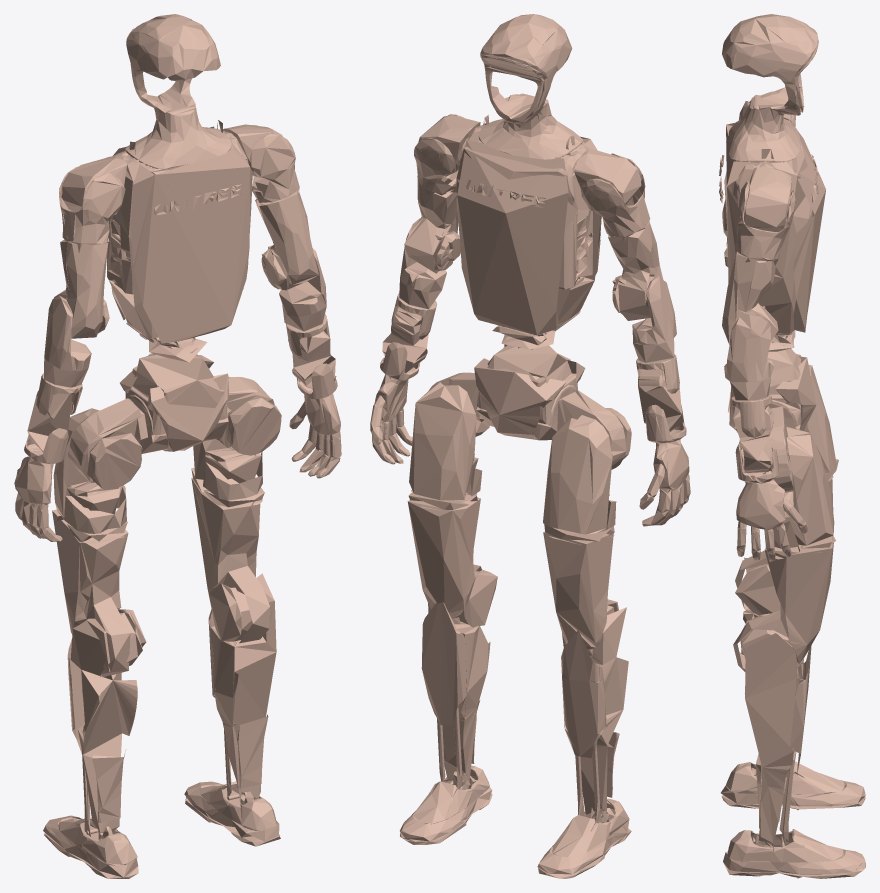
Rendered from jules.glb.
The picture shows the model from 3 angles, left to right: view 1: azimuth 30°, elevation 25°; view 2: azimuth 150°, elevation 25°; view 3: azimuth 270°, elevation 25°; orthographic projection. The views are drawn at different scales.
Visible parts, largest first — view 1: body16_16, body16_18, body5_5, body10_10, body11_11, body4_4, body2_2, body1_0, body3_3, body26_29, body19_21, body13_13 (+19 smaller); view 2: body16_16, body16_18, body5_5, body11_11, body10_10, body3_3, body9_9, body4_4, body1_1, body13_13, body7_7, body26_29 (+19 smaller); view 3: body16_18, body11_11, body16_16, body10_10, body13_13, body9_9, body7_7, body30_34, body27_30, body26_29, body24_27, body4_4 (+9 smaller).
Boxes of the visible parts, box(x1,y1,x2,y2) form: body16_16: box(107, 120, 252, 343); body16_18: box(125, 14, 231, 168); body5_5: box(67, 620, 137, 836); body10_10: box(191, 467, 269, 643); body11_11: box(208, 573, 276, 804); body4_4: box(52, 509, 146, 677); body2_2: box(68, 398, 148, 489); body1_0: box(125, 354, 228, 453); body3_3: box(53, 408, 126, 533); body26_29: box(255, 191, 318, 290); body19_21: box(54, 239, 109, 338); body13_13: box(184, 781, 280, 846); body16_16: box(456, 115, 601, 335); body16_18: box(478, 14, 582, 159); body5_5: box(561, 607, 628, 823); body11_11: box(421, 602, 490, 789); body10_10: box(407, 492, 497, 627); body3_3: box(543, 415, 616, 534); body9_9: box(409, 382, 482, 500); body4_4: box(543, 524, 618, 657); body1_1: box(474, 344, 585, 439); body13_13: box(400, 765, 492, 844); body7_7: box(537, 798, 631, 878); body26_29: box(404, 180, 460, 273); body16_18: box(722, 14, 818, 162); body11_11: box(744, 633, 811, 844); body16_16: box(724, 119, 825, 335); body10_10: box(733, 536, 835, 671); body13_13: box(723, 829, 865, 878); body9_9: box(773, 426, 834, 548); body7_7: box(721, 761, 865, 809); body30_34: box(736, 479, 807, 561); body27_30: box(724, 314, 774, 400); body26_29: box(722, 251, 778, 344); body24_27: box(744, 167, 791, 231); body4_4: box(735, 459, 838, 615).
Bounding box in the file's own units: 0.5224 × 1.32 × 0.216.
